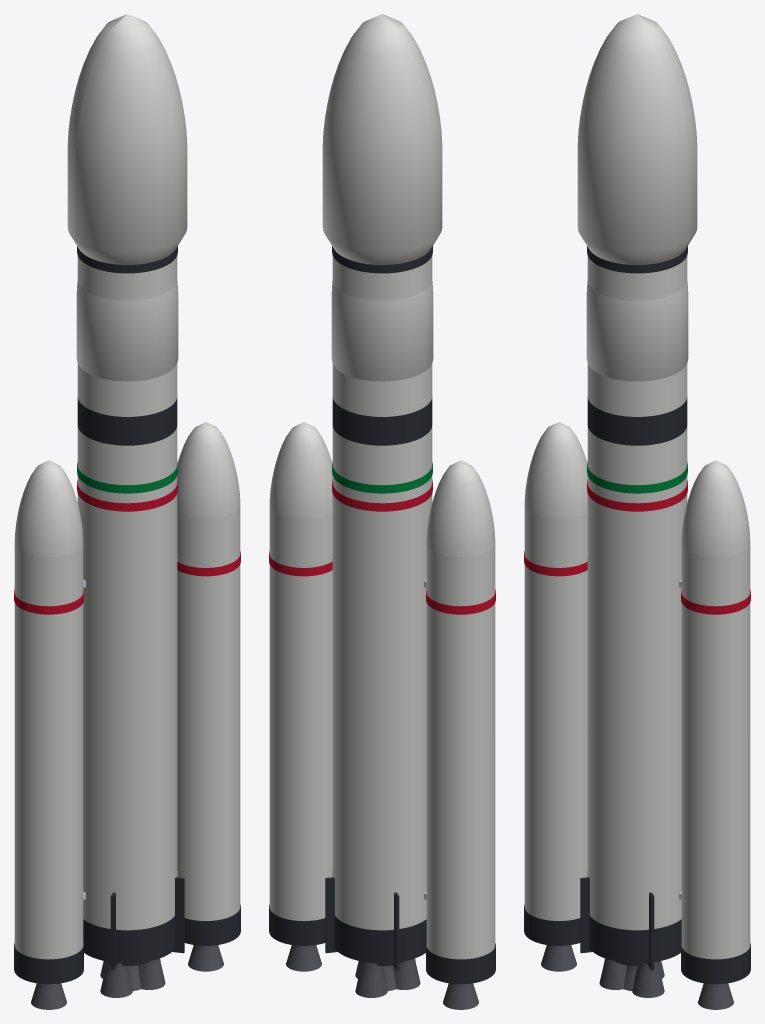
The model's file is rockets.glb.
3 renders of one model, left to right at view 1: azimuth 30°, elevation 25°; view 2: azimuth 150°, elevation 25°; view 3: azimuth 330°, elevation 25°, orthographic.
Visible parts, largest first — view 1: Heavy_Stage1, Heavy_Booster_L, Heavy_Booster_R, Heavy_Fairing_R, Medium_Fairing_R, Heavy_Stage2, Heavy_Fairing_L, Small_Stage1, Medium_Fairing_L; view 2: Heavy_Stage1, Heavy_Booster_L, Heavy_Booster_R, Heavy_Fairing_L, Medium_Fairing_L, Heavy_Stage2, Heavy_Fairing_R, Small_Stage1, Medium_Fairing_R; view 3: Heavy_Stage1, Heavy_Booster_R, Heavy_Booster_L, Heavy_Fairing_R, Medium_Fairing_R, Heavy_Stage2, Heavy_Fairing_L, Small_Stage1, Medium_Fairing_L.
Boxes of the visible parts, box(x1,y1,x2,y2) form: Heavy_Stage1: box(77, 397, 177, 997); Heavy_Booster_L: box(14, 460, 85, 1009); Heavy_Booster_R: box(177, 422, 240, 971); Heavy_Fairing_R: box(75, 14, 187, 264); Medium_Fairing_R: box(83, 281, 178, 381); Heavy_Stage2: box(77, 246, 177, 416); Heavy_Fairing_L: box(67, 14, 144, 253); Small_Stage1: box(105, 877, 184, 991); Medium_Fairing_L: box(76, 281, 84, 370); Heavy_Stage1: box(332, 397, 432, 997); Heavy_Booster_L: box(424, 460, 495, 1009); Heavy_Booster_R: box(269, 422, 332, 971); Heavy_Fairing_L: box(322, 14, 434, 264); Medium_Fairing_L: box(331, 281, 426, 381); Heavy_Stage2: box(332, 246, 432, 416); Heavy_Fairing_R: box(365, 14, 442, 253); Small_Stage1: box(325, 877, 404, 991); Medium_Fairing_R: box(425, 281, 433, 370); Heavy_Stage1: box(587, 397, 687, 997); Heavy_Booster_R: box(679, 460, 750, 1009); Heavy_Booster_L: box(524, 422, 587, 971); Heavy_Fairing_R: box(577, 14, 689, 264); Medium_Fairing_R: box(586, 281, 681, 381); Heavy_Stage2: box(587, 246, 687, 416); Heavy_Fairing_L: box(620, 14, 697, 253); Small_Stage1: box(580, 877, 659, 991); Medium_Fairing_L: box(680, 281, 688, 370).
Size of the model in its own units: 2.77 by 11.8 by 1.32.
